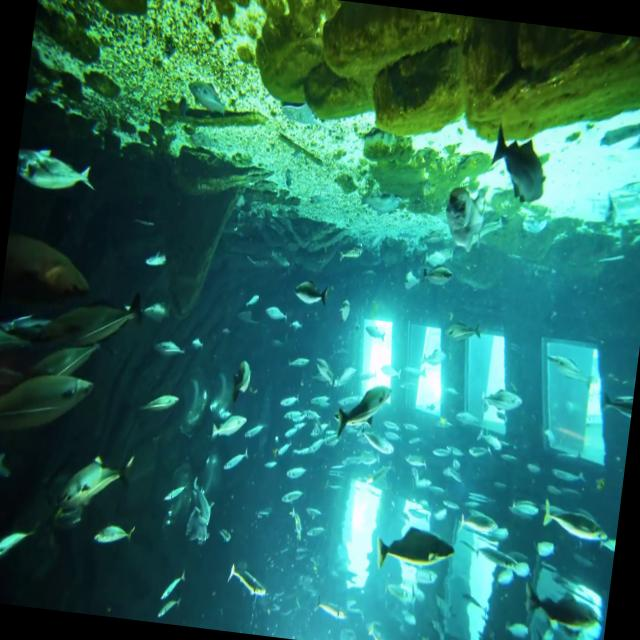fish: (36, 276, 152, 369), (0, 360, 105, 460), (0, 224, 104, 314), (472, 114, 558, 222), (59, 434, 145, 518), (363, 512, 458, 588), (12, 137, 106, 209), (326, 372, 394, 448), (520, 577, 600, 640), (531, 496, 612, 546), (540, 338, 596, 406), (82, 510, 145, 560), (226, 555, 274, 612), (137, 380, 187, 434), (477, 378, 522, 434), (412, 255, 465, 302), (348, 422, 400, 469), (0, 512, 39, 574), (452, 499, 502, 546), (438, 318, 485, 366), (305, 590, 356, 630), (282, 279, 334, 318), (600, 382, 634, 440), (225, 351, 256, 414), (155, 550, 188, 606), (150, 328, 190, 371), (140, 236, 172, 283), (156, 473, 192, 514), (333, 233, 367, 271), (130, 304, 172, 333)
